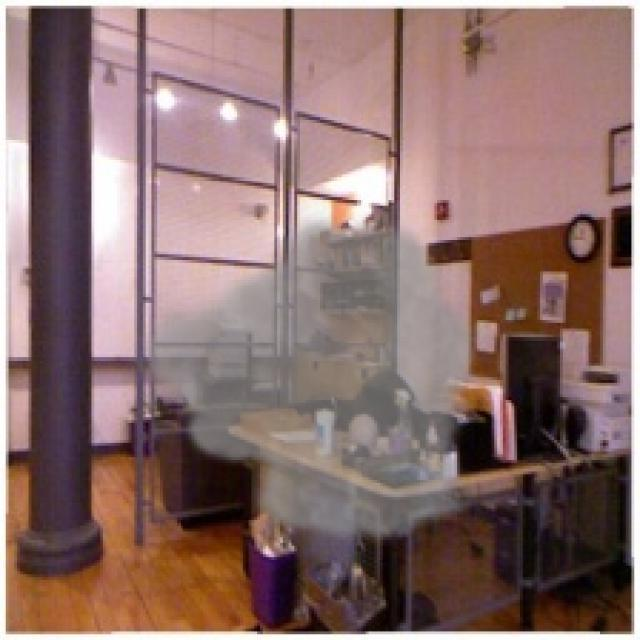Smoke: (134, 206, 480, 548)
